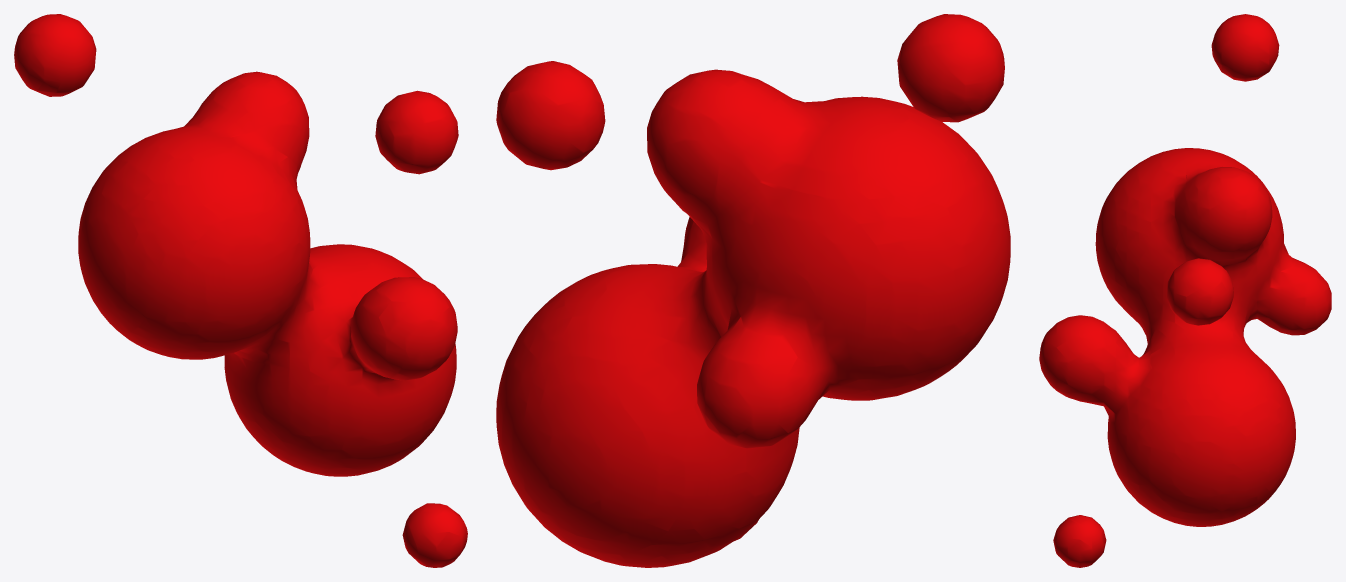
The model's file is blob4.glb.
The picture shows the model from 3 angles, left to right: view 1: azimuth 30°, elevation 25°; view 2: azimuth 150°, elevation 25°; view 3: azimuth 270°, elevation 25°; orthographic projection. The views are drawn at different scales.
Parts seen in each view (by area): view 1: Mball.008; view 2: Mball.008; view 3: Mball.008.
Boxes of the visible parts, x1,y1,x2,y2 form: Mball.008: [14, 14, 467, 567]; Mball.008: [496, 14, 1010, 567]; Mball.008: [1039, 14, 1331, 567].
Bounding box in the file's own units: 14.91 × 18.97 × 11.47.
